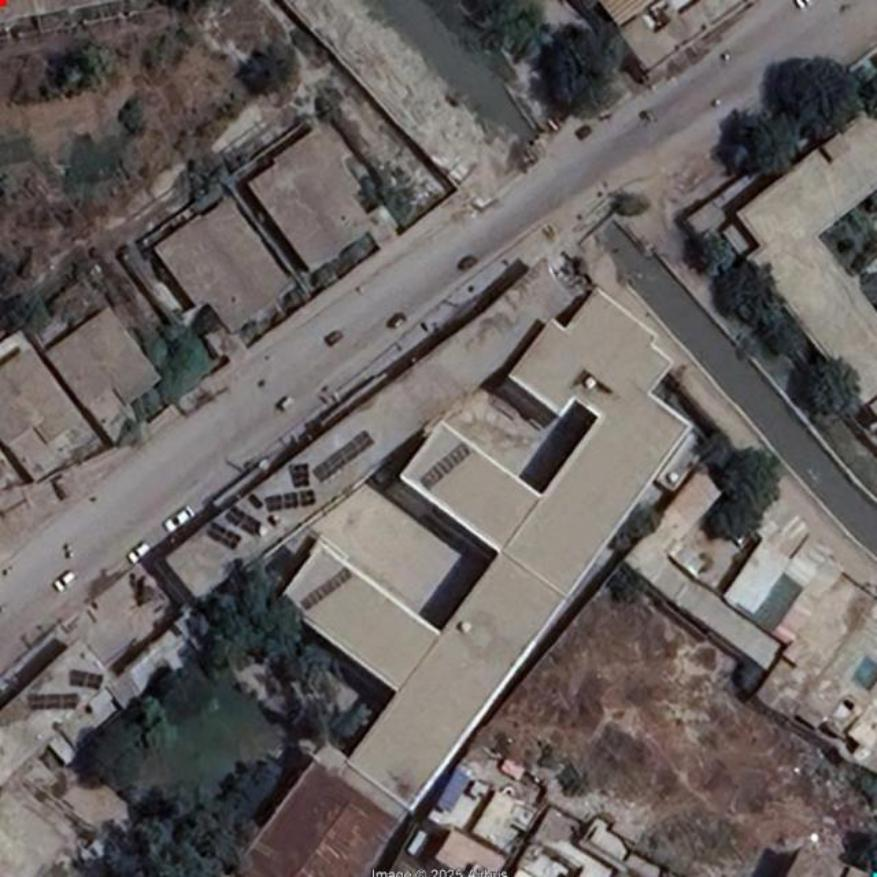Solarpanel: (316, 433, 374, 484), (422, 439, 471, 489), (303, 569, 349, 612), (266, 489, 316, 512), (226, 505, 262, 536), (29, 695, 78, 714), (207, 527, 242, 549), (68, 670, 104, 686)
